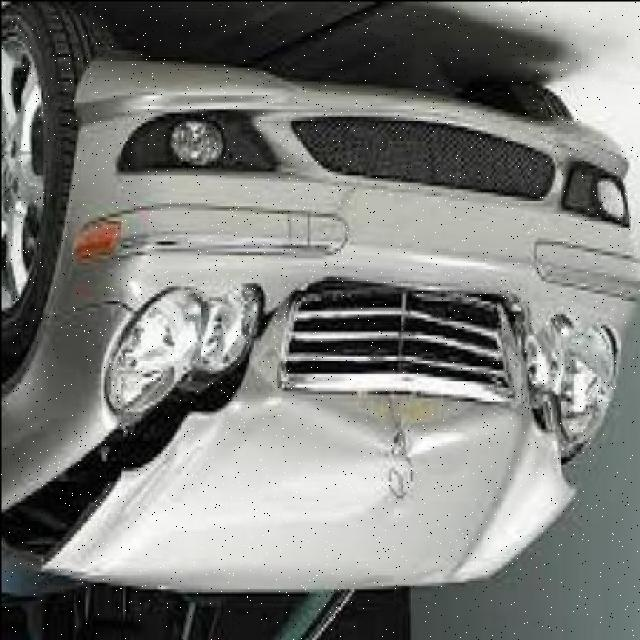damage: (1, 264, 307, 570), (272, 270, 524, 449), (525, 388, 584, 507)
